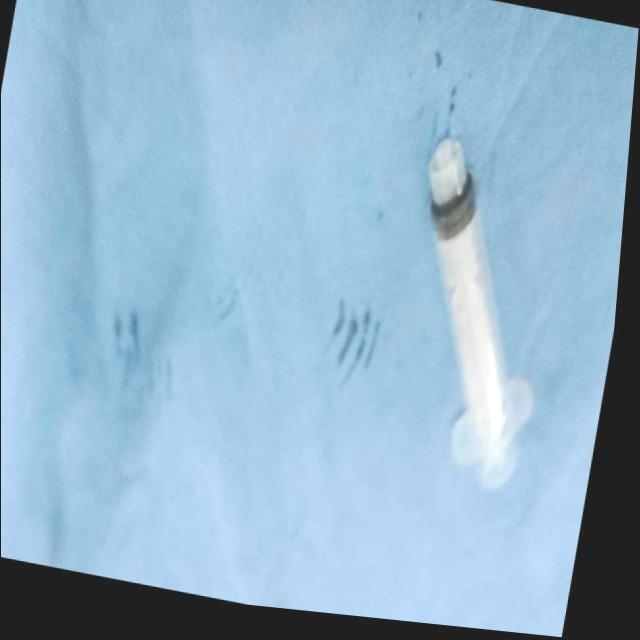General: (424, 136, 479, 237)
Pathological: (3, 2, 637, 636)
Sharps: (425, 136, 534, 488)
